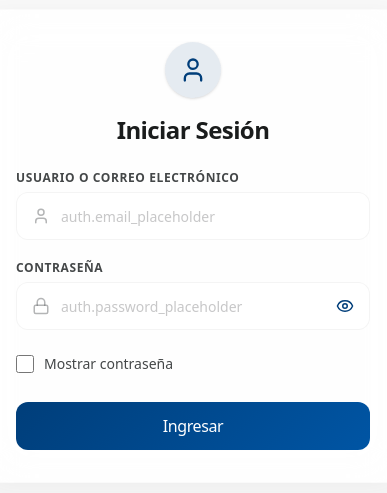
LoginPage Component › should show validation errors when fields are empty and form is submitted
Click the button "Ingresar" at (193, 426), box left=16, top=402, right=370, bottom=450
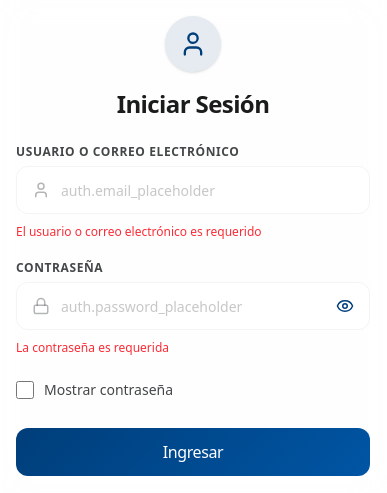
Expected: the text "El usuario o correo electrónico es requerido" is shown, left=16, top=223, right=262, bottom=240
Expected: the text "La contraseña es requerida" is shown, left=16, top=339, right=169, bottom=356
